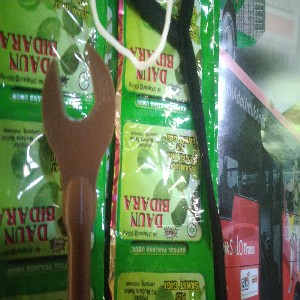spanner: (41, 46, 116, 300)
